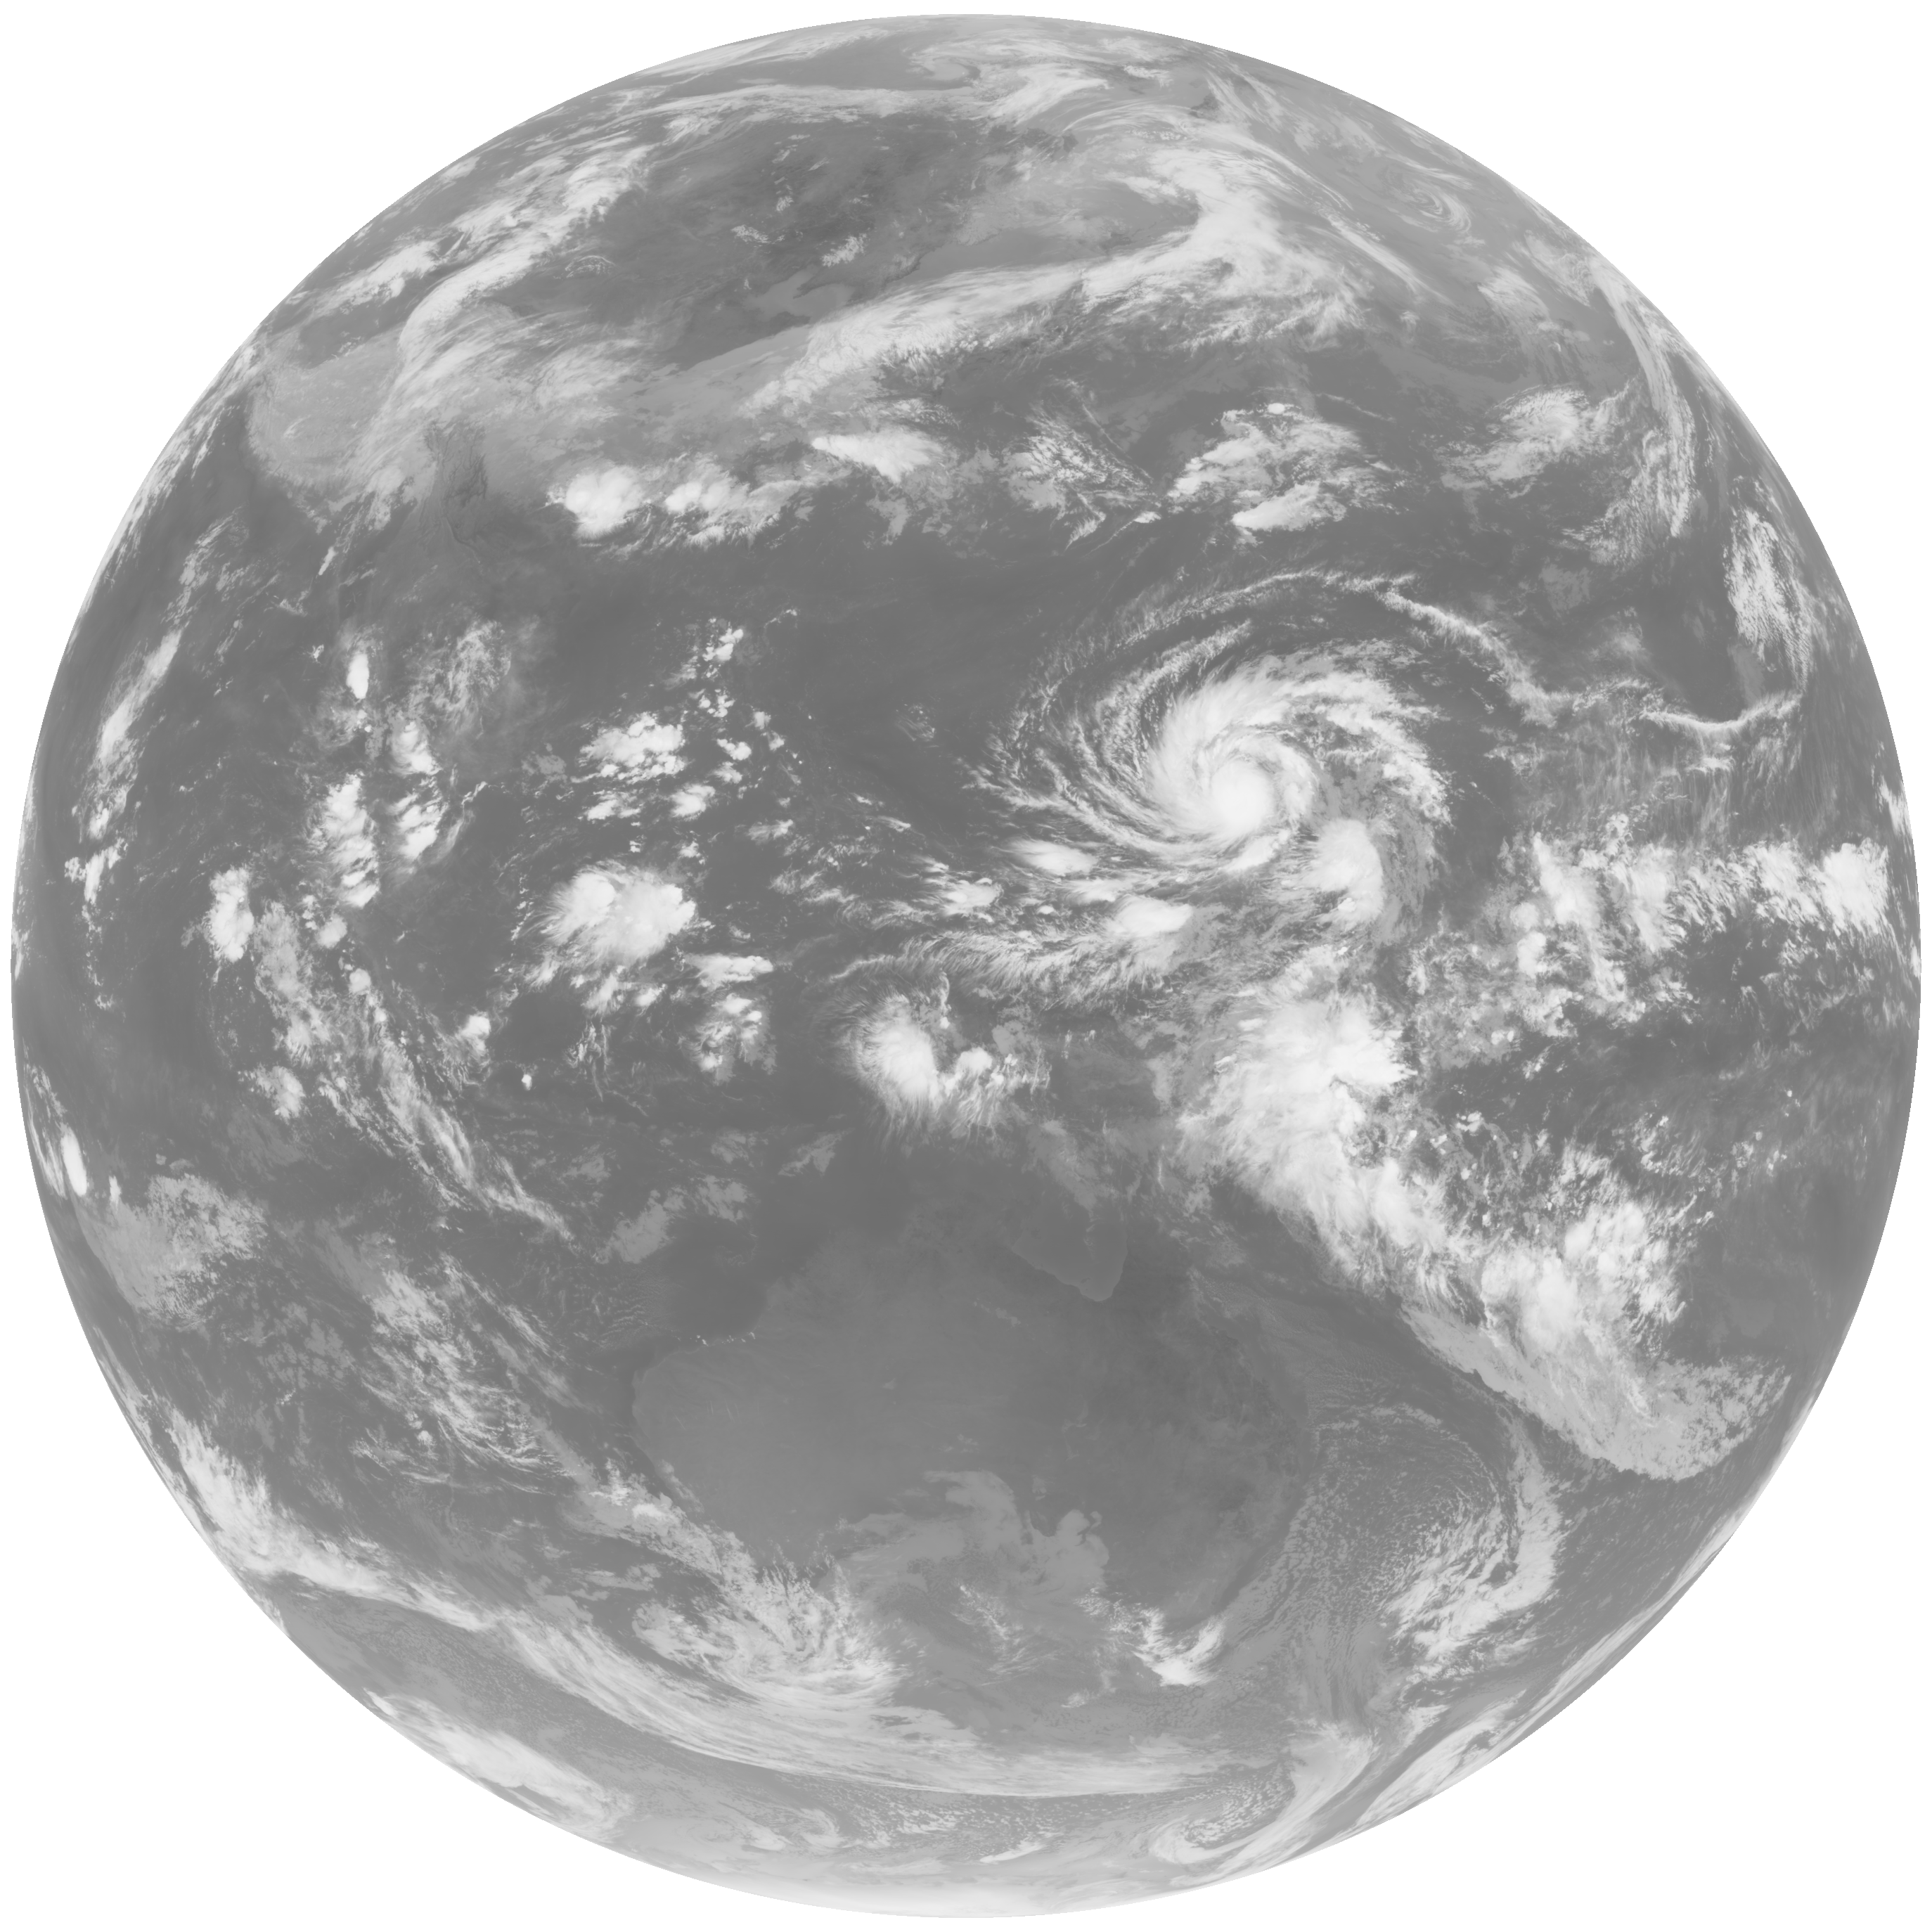typhoon: (994, 571, 1431, 920)
